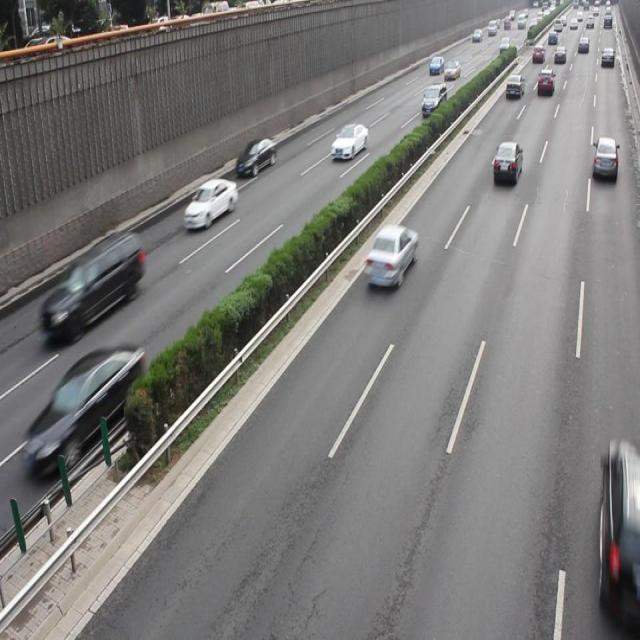car: (26, 344, 144, 476), (597, 438, 640, 612), (362, 224, 417, 290), (183, 176, 236, 231), (234, 138, 275, 178), (331, 122, 367, 160), (492, 141, 522, 185), (591, 137, 617, 179)
truck: (39, 230, 143, 340)
